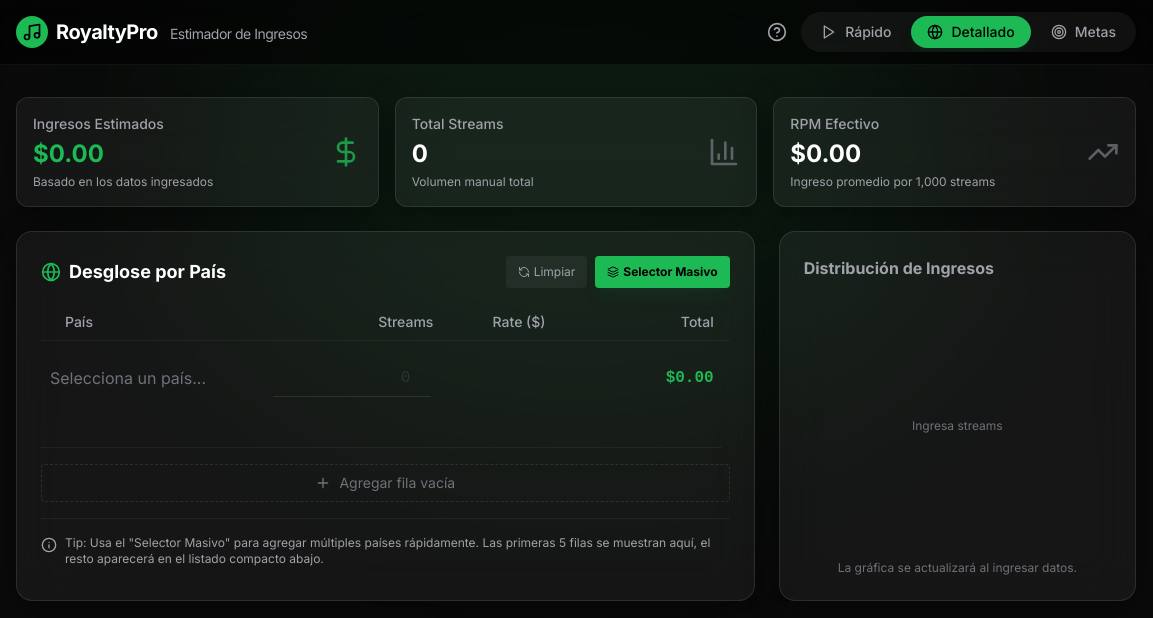
Test case: App › should switch back to AdvancedCalculator when clicking "Detallado"
This screenshot has width=1153, height=618.
Switch away first
Click the button "Rápido" at [856, 32], box [805, 16, 908, 48]
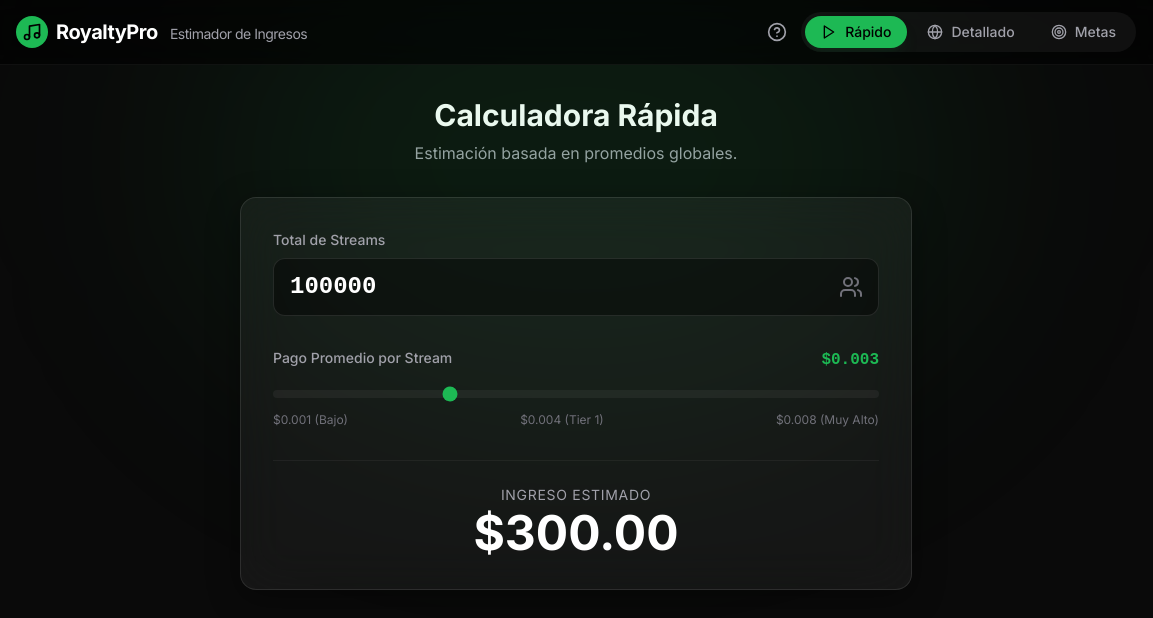
Now the heading "Calculadora Rápida" is shown, box [434, 97, 718, 133]
Switch back
Click the button "Detallado" at [971, 32], box [911, 16, 1031, 48]
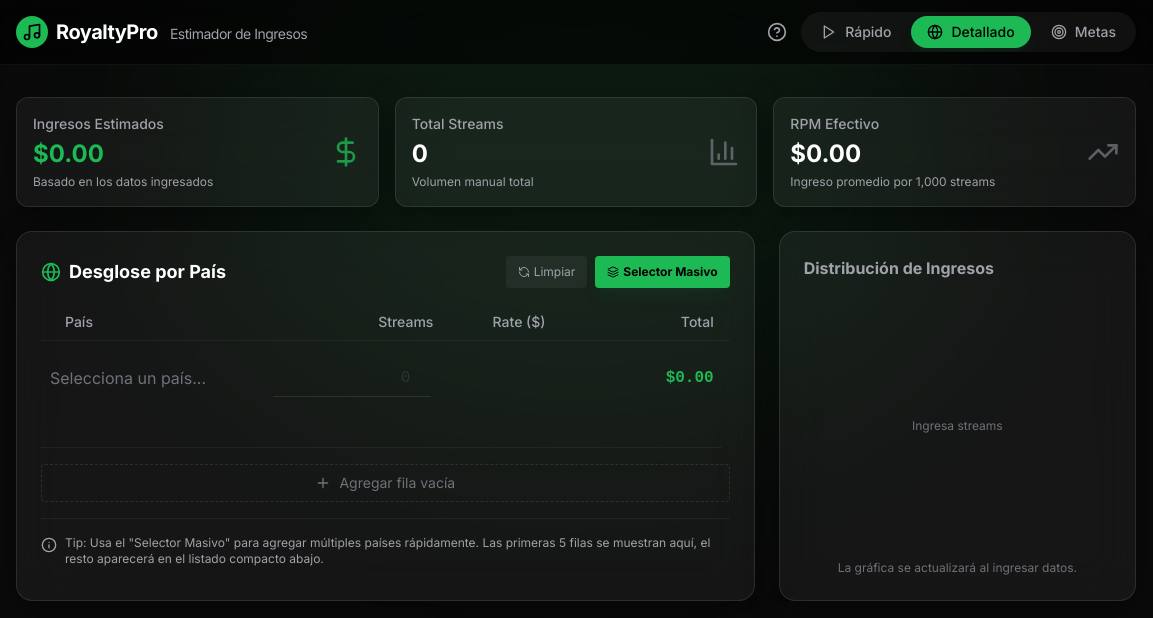
Now the heading "Desglose por País" is shown, box [41, 258, 226, 286]
